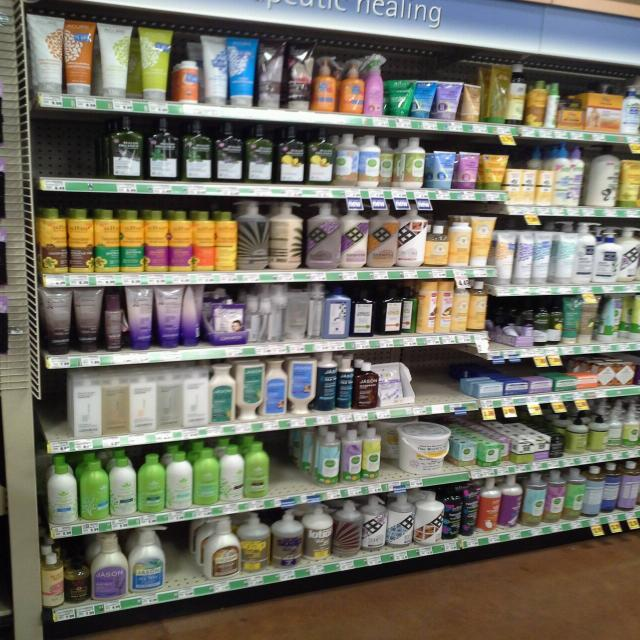void: (36, 117, 104, 179), (418, 354, 457, 401), (274, 439, 309, 490), (171, 532, 195, 585)
